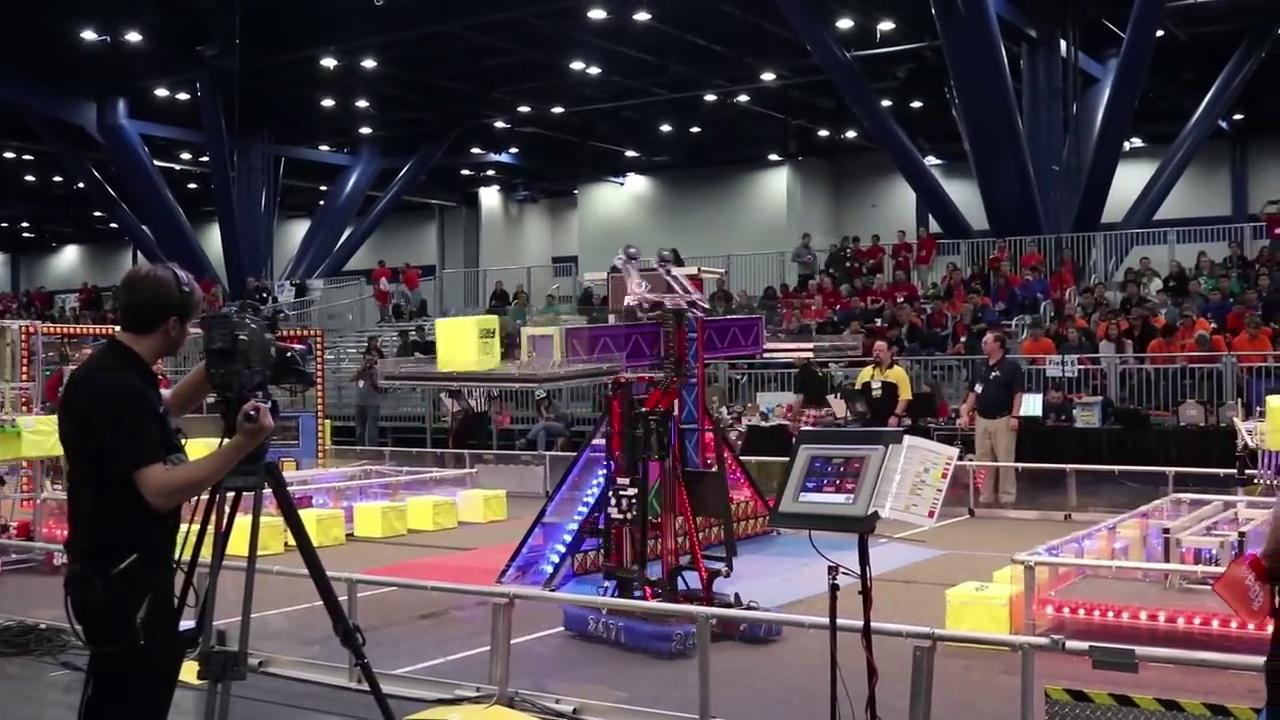robot: (558, 367, 784, 661)
